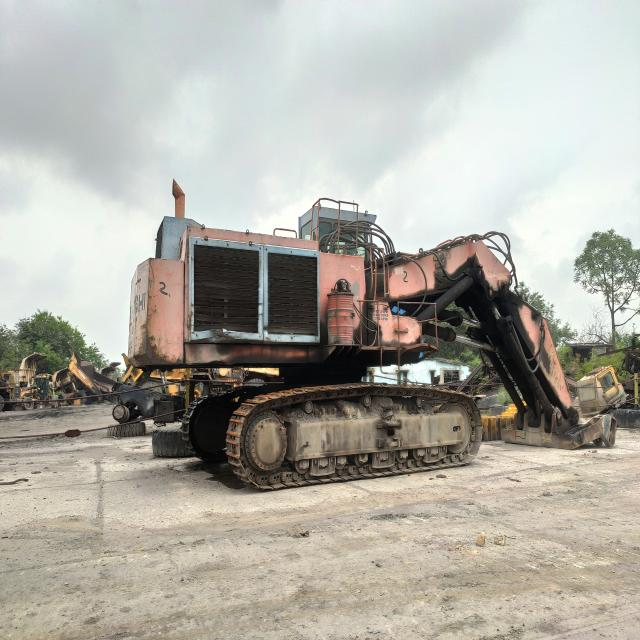excavator: (113, 192, 579, 488)
